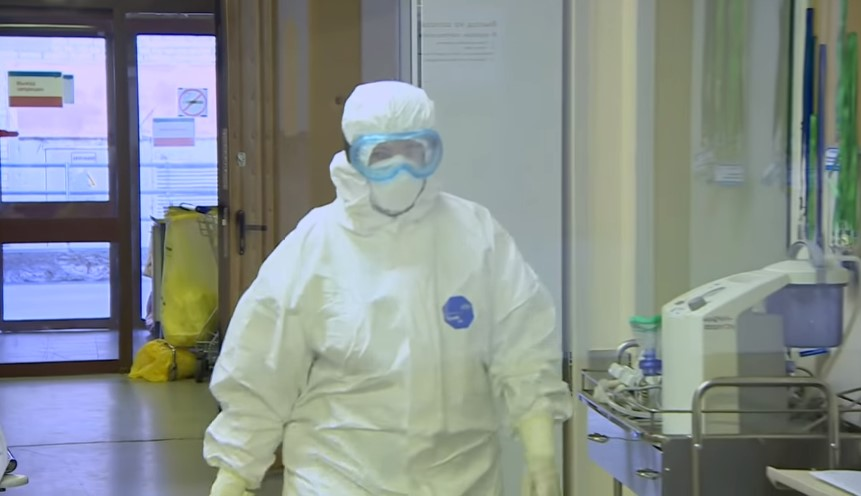face_with_mask: (346, 84, 446, 225)
